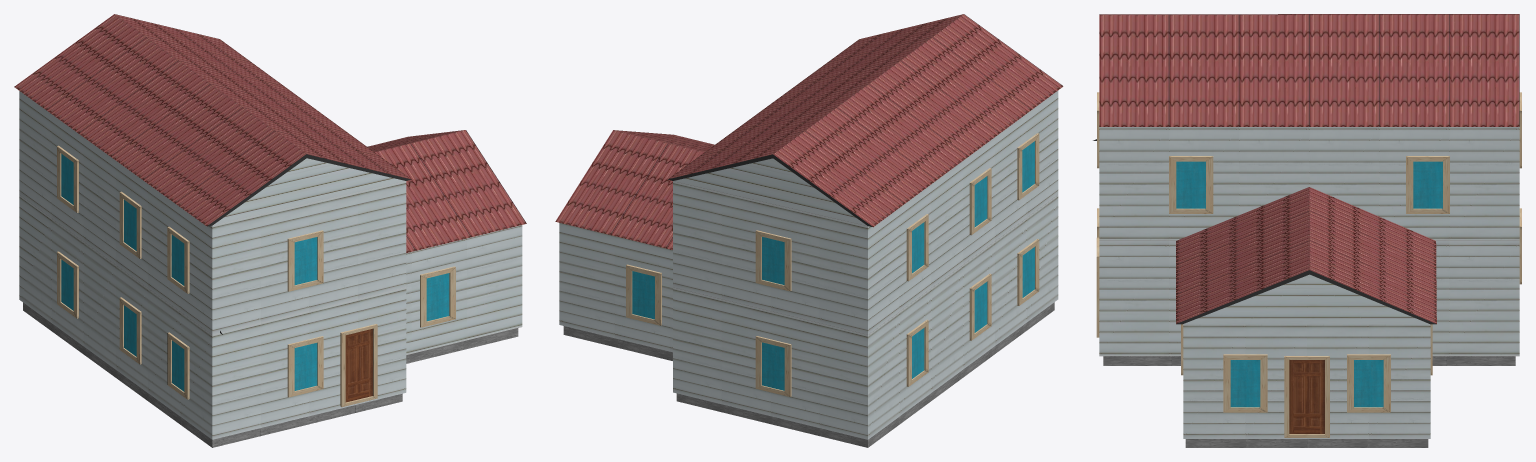
File: Hus6.glb
3 views of the same model, side by side, from view 1: azimuth 30°, elevation 25°; view 2: azimuth 150°, elevation 25°; view 3: azimuth 270°, elevation 25° (orthographic). The views are drawn at different scales.
Parts seen in each view (by area): view 1: Hus6; view 2: Hus6; view 3: Hus6.
Part boxes in pixels (bbox=[...]): Hus6: bbox=[14, 14, 526, 447]; Hus6: bbox=[555, 14, 1063, 447]; Hus6: bbox=[1093, 14, 1521, 447].
Size of the model in its own units: 12.43 by 9.07 by 11.82.
Materials: 1 (1 with a texture image).
